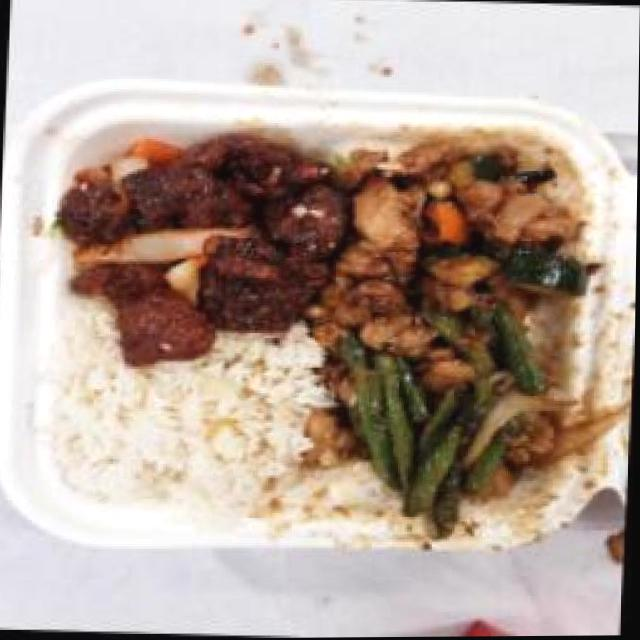Beijing Beef: (56, 118, 347, 375)
Kung Pao Chicken: (329, 125, 592, 339)
String Bean Chicken Breast: (332, 307, 579, 543)
White Steamed Rice: (54, 351, 321, 523)
